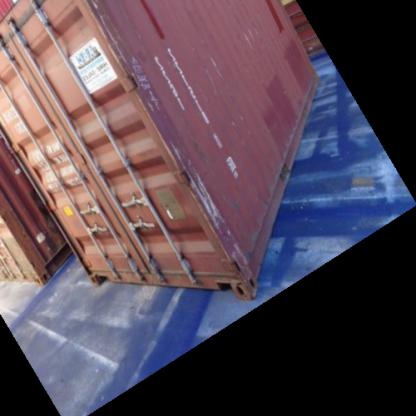Damage: (184, 170, 230, 242), (98, 15, 136, 65), (166, 124, 196, 169), (225, 241, 259, 272), (237, 25, 268, 46), (202, 55, 229, 76)
